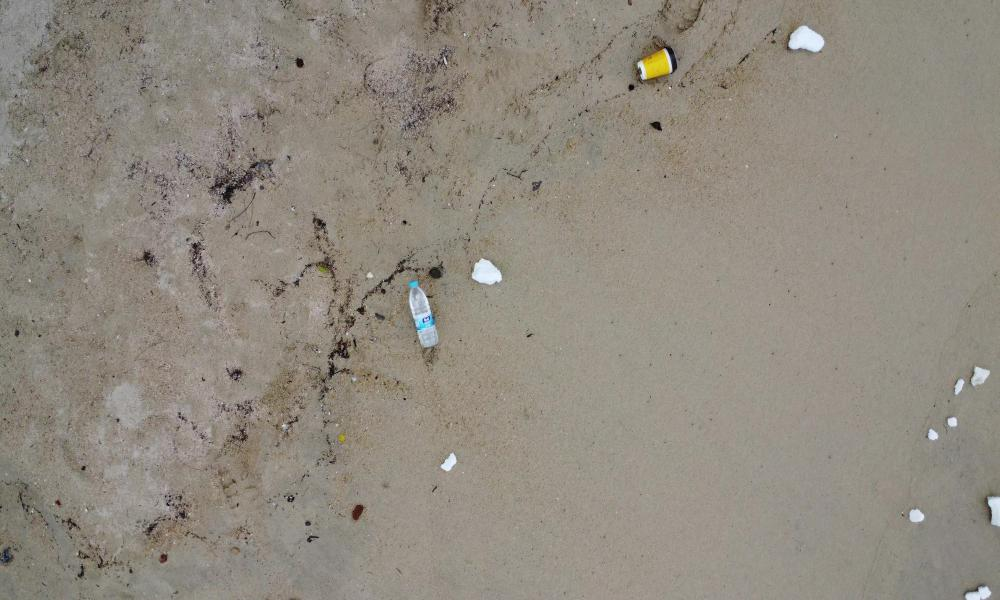carton: (625, 36, 679, 82)
plastic bottle: (400, 270, 442, 354)
styrofoam: (467, 253, 508, 292), (788, 20, 826, 58), (434, 447, 466, 473)
